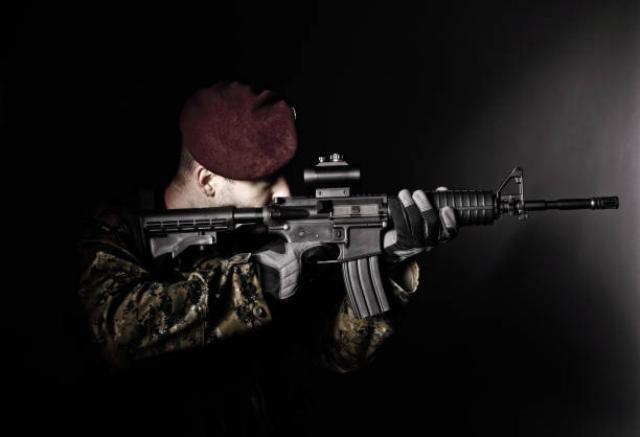other: (81, 86, 346, 361)
